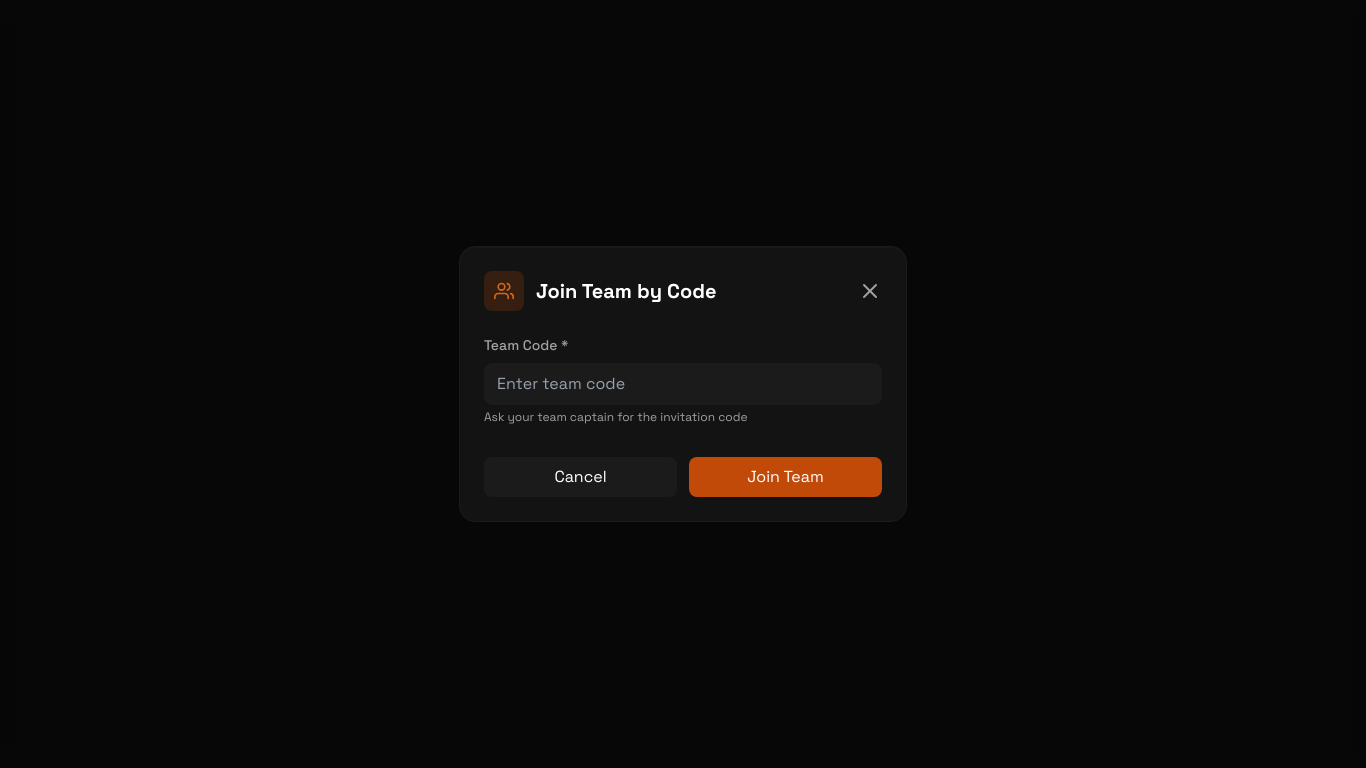
JoinTeamModal › shows error on API failure
Type "BAD" into the field with placeholder "Enter team code" at (683, 384), box x1=484 y1=363 x2=882 y2=405
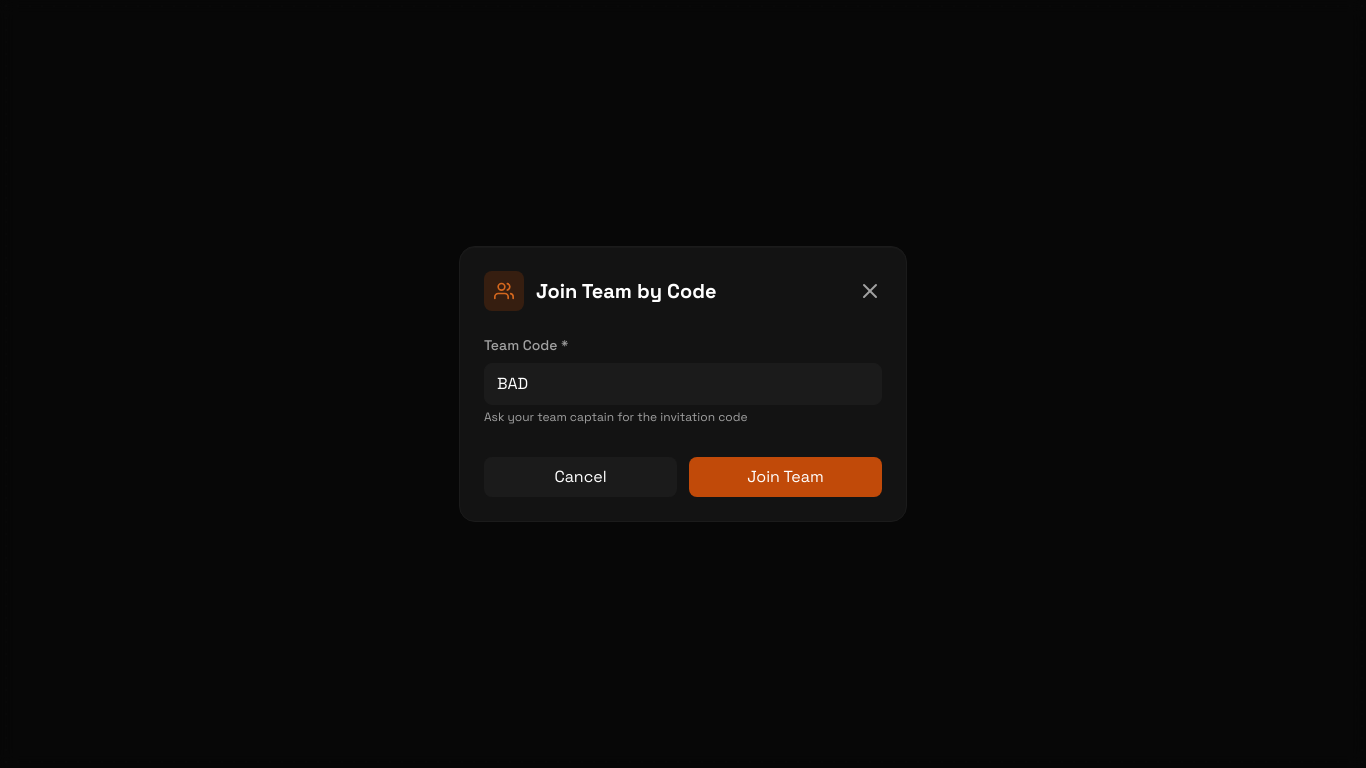
Submit the form with placeholder "Team Code", box x1=484 y1=335 x2=882 y2=497
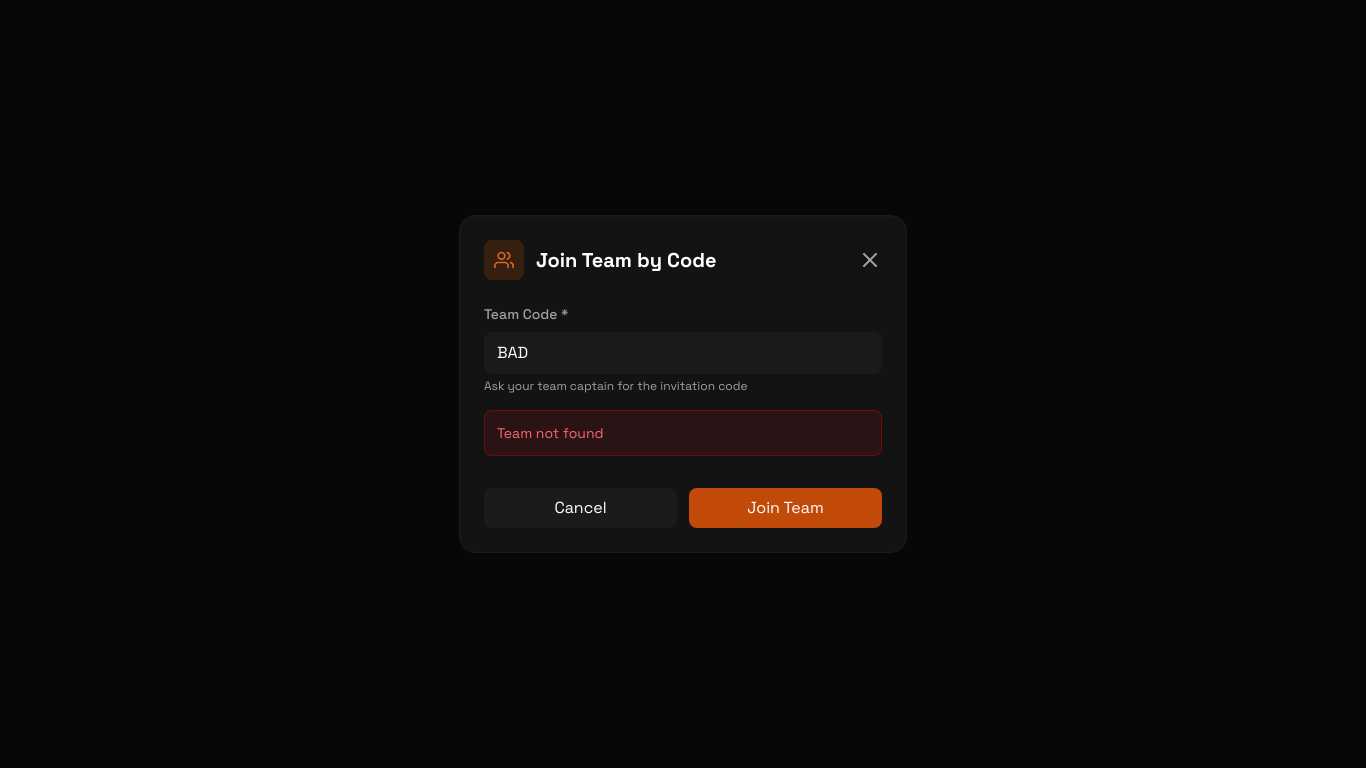
Expected: the text "Team not found" is shown, x1=484 y1=410 x2=882 y2=456
